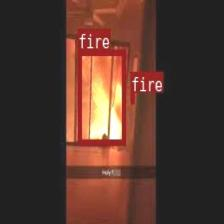fire: (77, 48, 125, 144), (130, 92, 134, 102)
